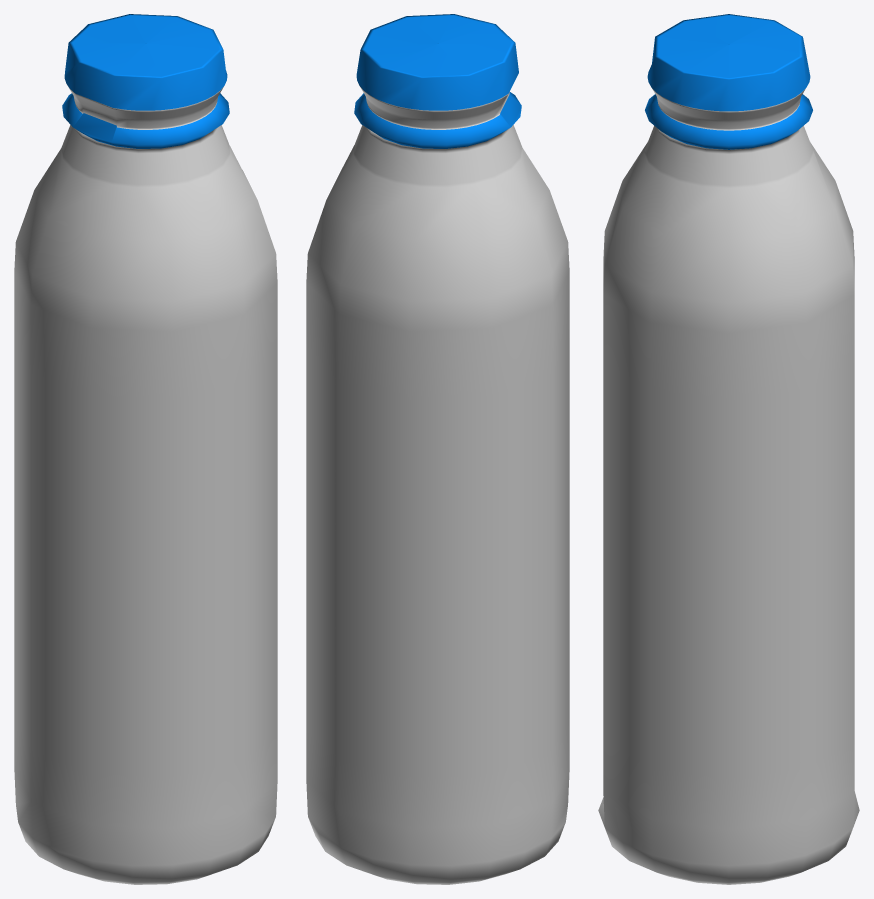
File: waterbottle.fbx
3 renders of one model, left to right at view 1: azimuth 30°, elevation 25°; view 2: azimuth 150°, elevation 25°; view 3: azimuth 270°, elevation 25°, orthographic.
Visible parts, largest first — view 1: nurbsToPoly3; view 2: nurbsToPoly3; view 3: nurbsToPoly3.
Part boxes in pixels (x1,y1,x2,y2): nurbsToPoly3: (14, 14, 277, 884); nurbsToPoly3: (306, 14, 569, 884); nurbsToPoly3: (598, 14, 859, 884).
Size of the model in its own units: 0.8472 by 2.82 by 0.8369.
